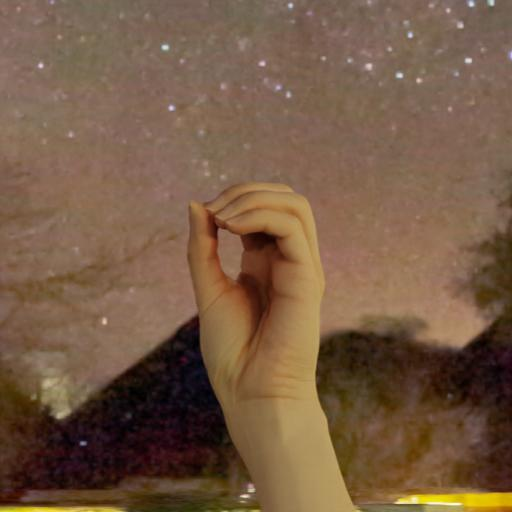O: (172, 166, 367, 418)
